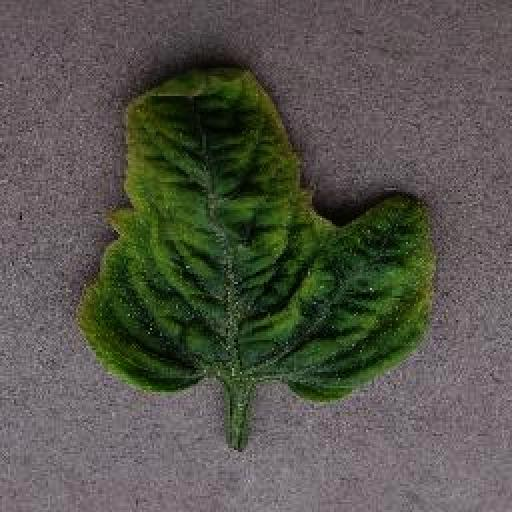disease_tomato: (79, 68, 440, 402)
